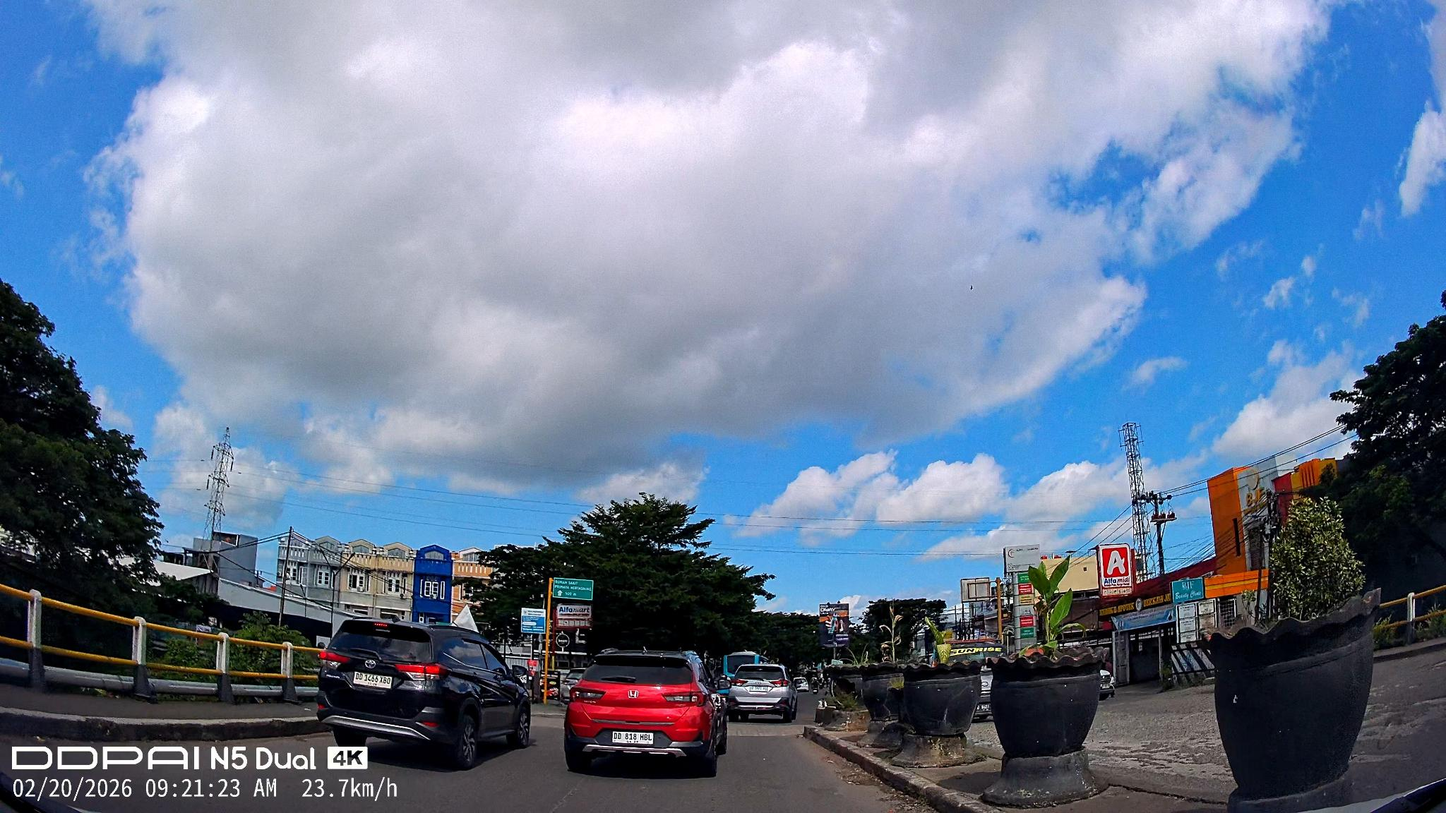rambu_teks: (552, 577, 594, 601)
